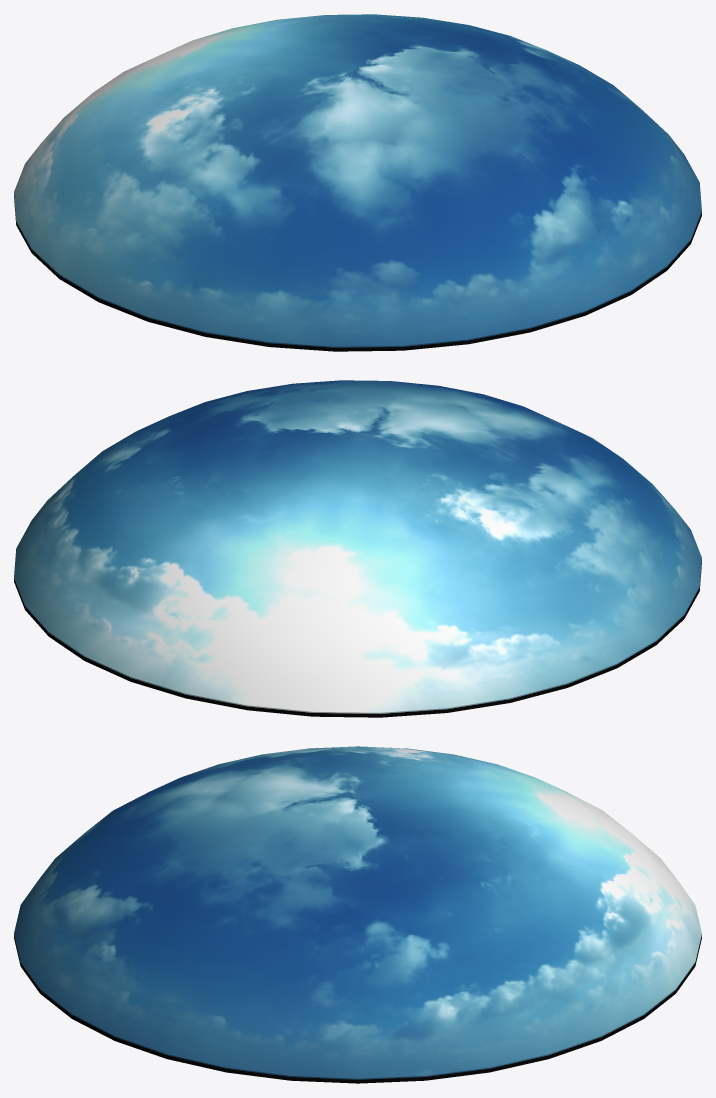
The model's file is InnerDome.dae.
3 views of the same model, one above another, from view 1: azimuth 30°, elevation 25°; view 2: azimuth 150°, elevation 25°; view 3: azimuth 270°, elevation 25° (orthographic).
Visible parts, largest first — view 1: Dome_Inner; view 2: Dome_Inner; view 3: Dome_Inner.
Part boxes in pixels (x1,y1,x2,y2): Dome_Inner: (14,14,701,351); Dome_Inner: (14,380,701,717); Dome_Inner: (14,746,701,1083).
Bounding box in the file's own units: 198 × 198 × 44.13.
